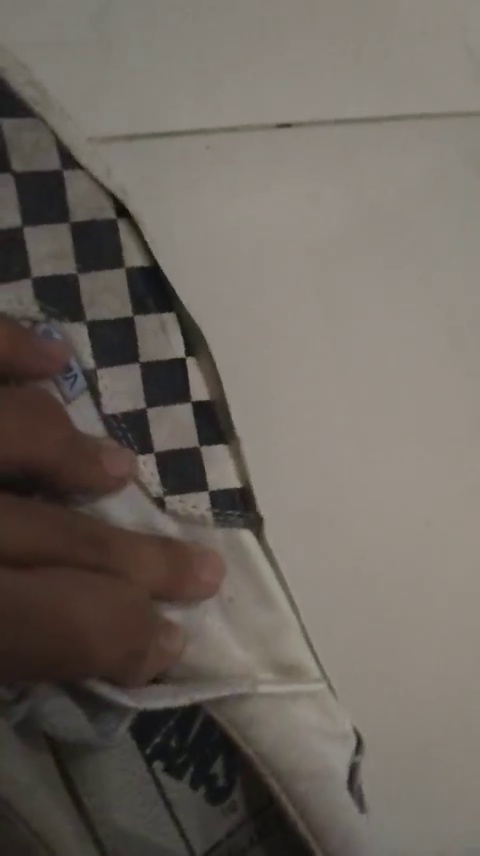bonding: (104, 190, 264, 514)
